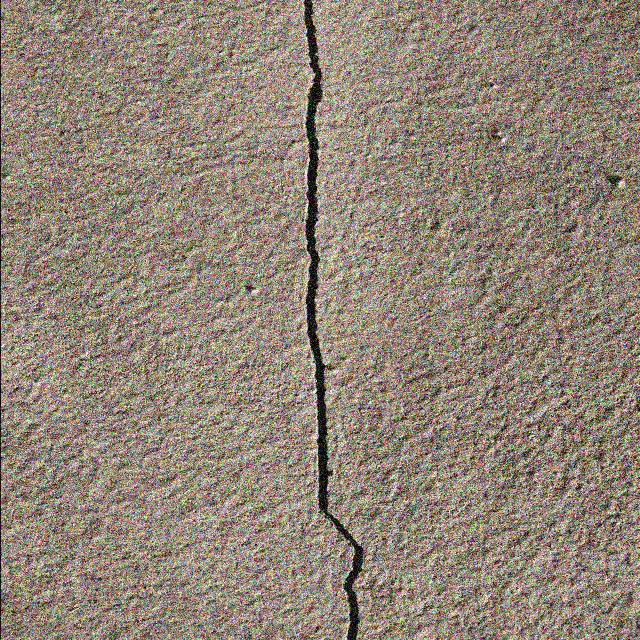SurfaceCrack: (262, 0, 419, 640)
